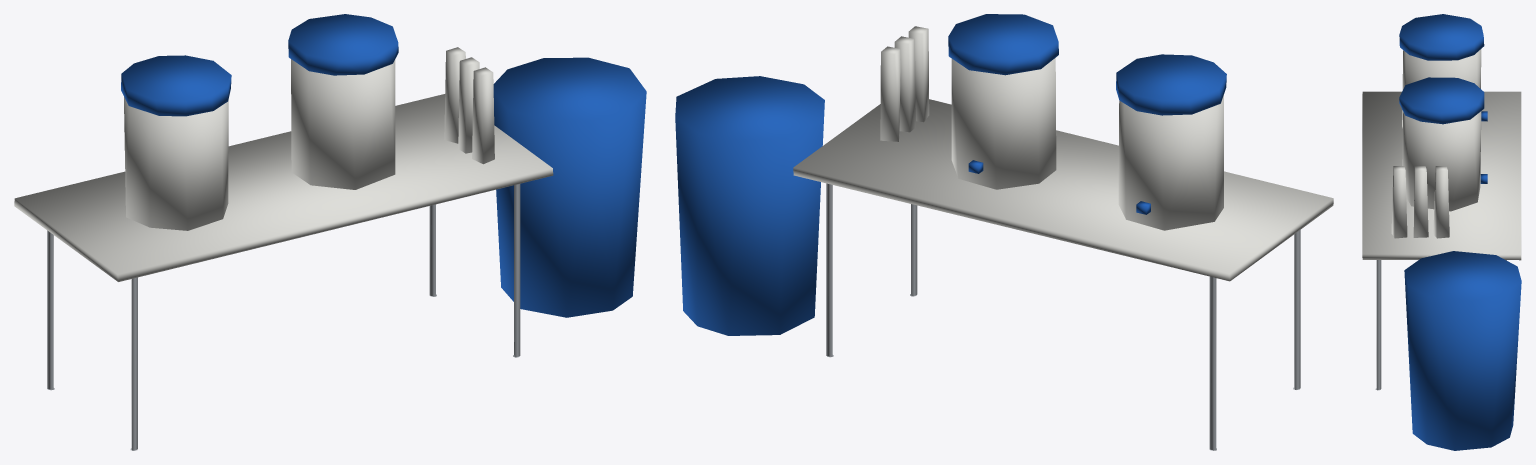
File: cooler_station_lod1.glb
3 renders of one model, left to right at view 1: azimuth 30°, elevation 25°; view 2: azimuth 150°, elevation 25°; view 3: azimuth 270°, elevation 25°, orthographic. The views are drawn at different scales.
Visible parts, largest first — view 1: cooler_station_lod1; view 2: cooler_station_lod1; view 3: cooler_station_lod1.
Boxes of the visible parts, <box> form: cooler_station_lod1: <box>14,14,646,450</box>; cooler_station_lod1: <box>675,14,1333,450</box>; cooler_station_lod1: <box>1362,14,1521,450</box>.
Size of the model in its own units: 2.44 by 1.28 by 0.7532.
